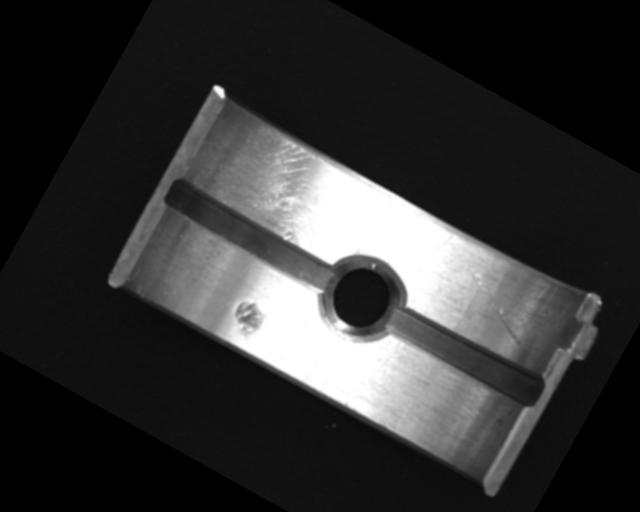bruise: (225, 294, 270, 341)
gap: (160, 173, 345, 300), (381, 298, 547, 412)
hole: (308, 245, 416, 355)
nick: (451, 269, 548, 354)
scratch: (186, 102, 384, 269)
